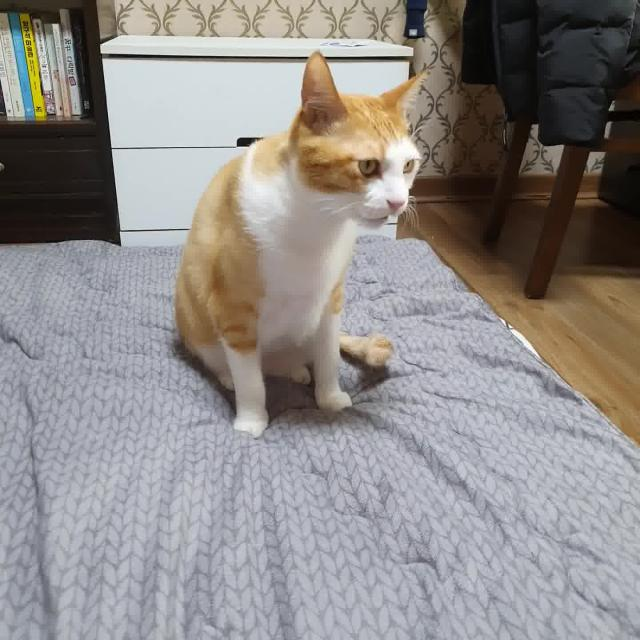cat: (167, 49, 426, 437)
